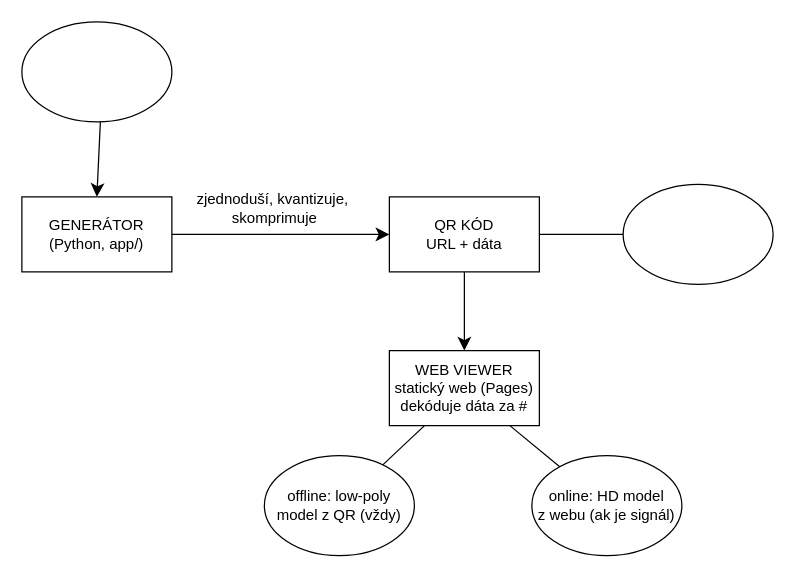
Some shapes in this 795 by 578 pixel diagram are drawn without their labels. The box of each missing label's shape, as (x1, y1, x2, y2) in pixels:
3D model OBJ/GLB: (21, 21, 172, 122)
vytlačí sa k zrúcanine: (622, 183, 773, 284)
